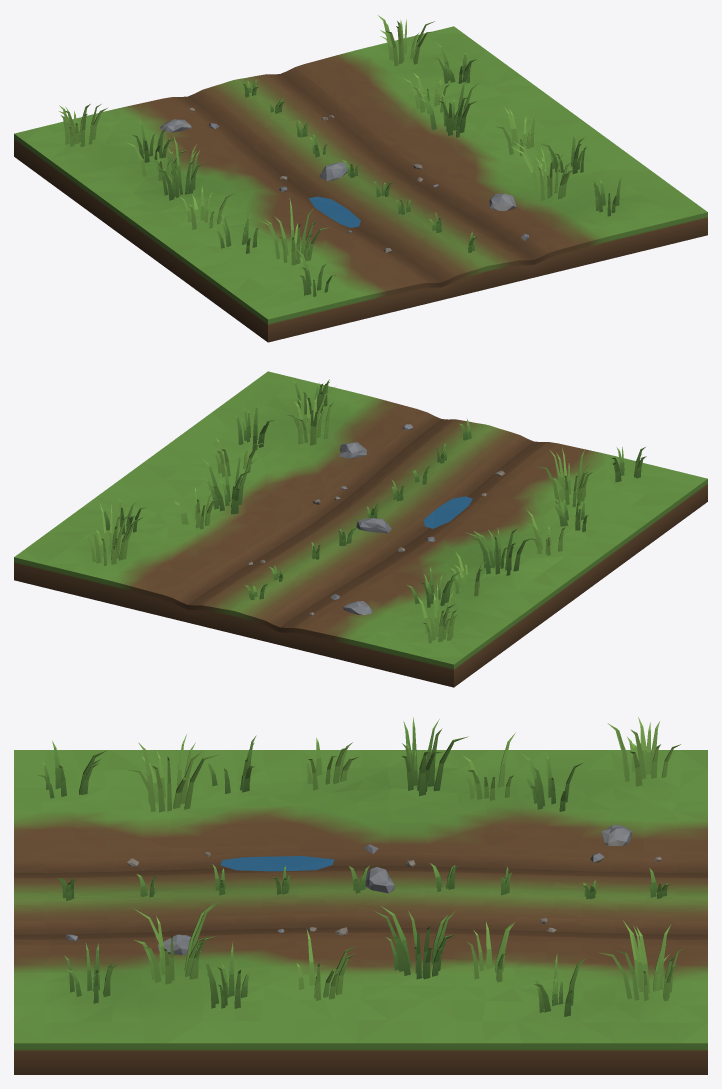
Rendered from dirt-trail.glb.
The picture shows the model from 3 angles, top to bottom: view 1: azimuth 30°, elevation 25°; view 2: azimuth 150°, elevation 25°; view 3: azimuth 270°, elevation 25°; orthographic projection. The views are drawn at different scales.
Parts seen in each view (by area): view 1: dirt_trail; view 2: dirt_trail; view 3: dirt_trail.
Boxes of the visible parts, box(x1,y1,x2,y2) form: dirt_trail: box(14, 15, 707, 342); dirt_trail: box(14, 371, 707, 687); dirt_trail: box(14, 717, 707, 1074).
Size of the model in its own units: 4 by 0.6031 by 4.
